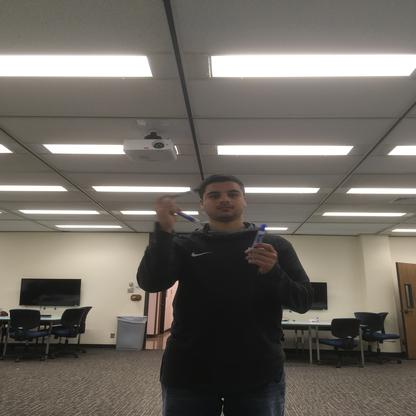expo_marker: (172, 206, 207, 230), (246, 221, 269, 254), (164, 185, 205, 202)
